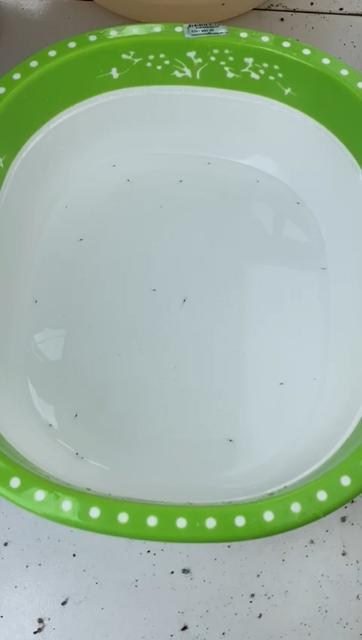benur: (182, 295, 190, 304), (278, 380, 287, 387), (321, 266, 328, 274), (63, 203, 70, 211), (227, 438, 236, 444), (159, 204, 166, 211), (207, 161, 213, 169), (296, 200, 302, 208), (48, 421, 54, 429), (79, 235, 85, 243), (126, 177, 132, 184), (178, 179, 185, 185), (33, 298, 40, 304), (256, 177, 261, 185), (80, 454, 86, 460), (74, 451, 80, 457), (73, 413, 79, 419), (152, 287, 157, 294), (111, 164, 117, 168)
